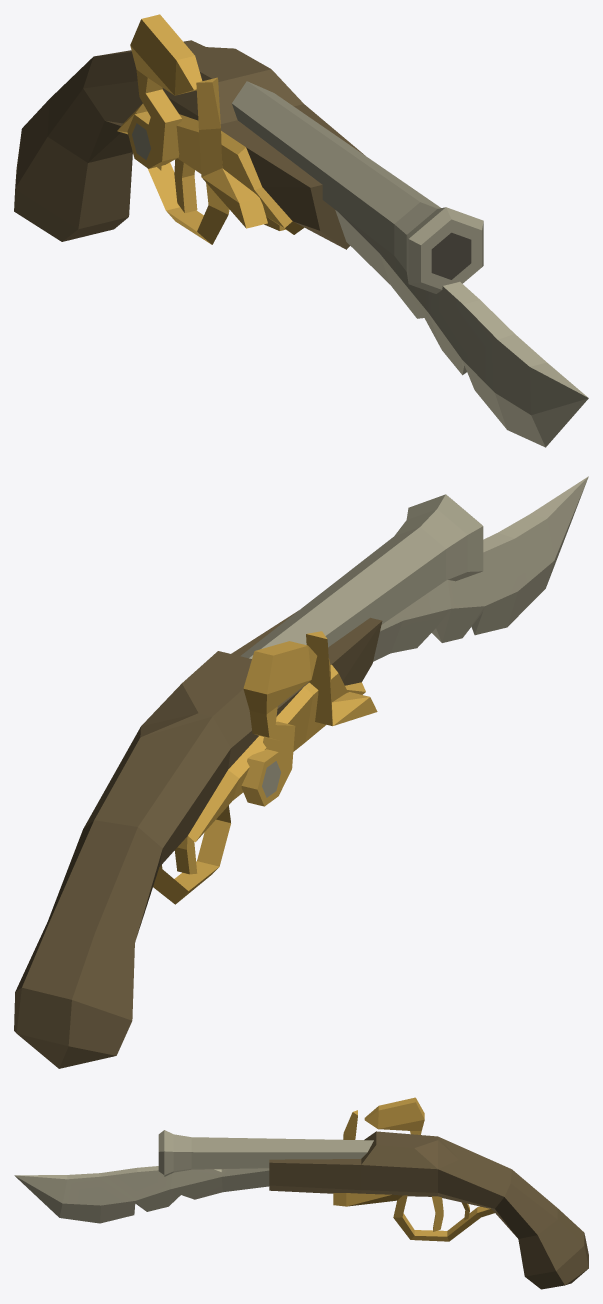
The model's file is Pistol_2.fbx.
3 views of the same model, one above another, from view 1: azimuth 30°, elevation 25°; view 2: azimuth 150°, elevation 25°; view 3: azimuth 270°, elevation 25° (orthographic). The views are drawn at different scales.
Visible parts, largest first — view 1: Pistol_2; view 2: Pistol_2; view 3: Pistol_2.
Boxes of the visible parts, box(x1,y1,x2,y2) form: Pistol_2: box(14, 14, 588, 447); Pistol_2: box(14, 476, 588, 1068); Pistol_2: box(14, 1097, 588, 1289).
Size of the model in its own units: 8.37 by 20.21 by 62.35.
